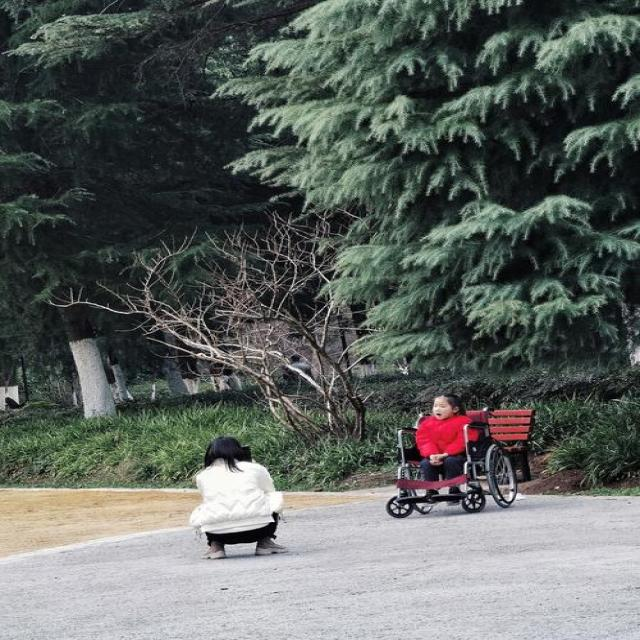wheelchairs: (361, 408, 526, 522)
